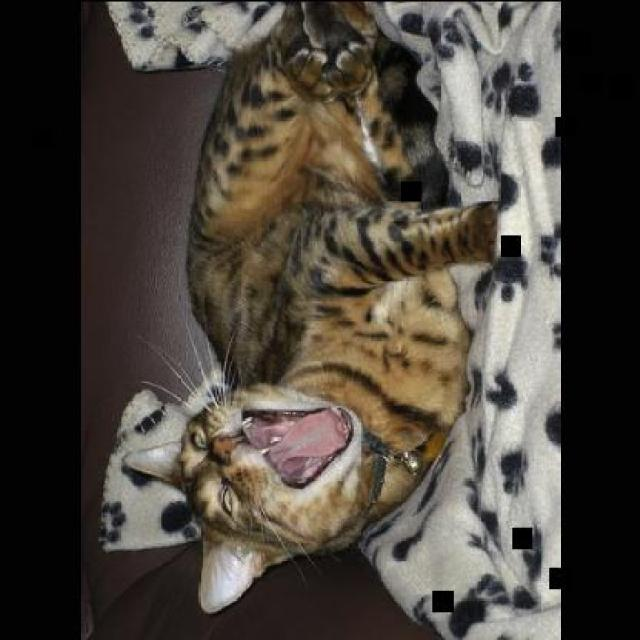unauthorized: (97, 0, 500, 614)
